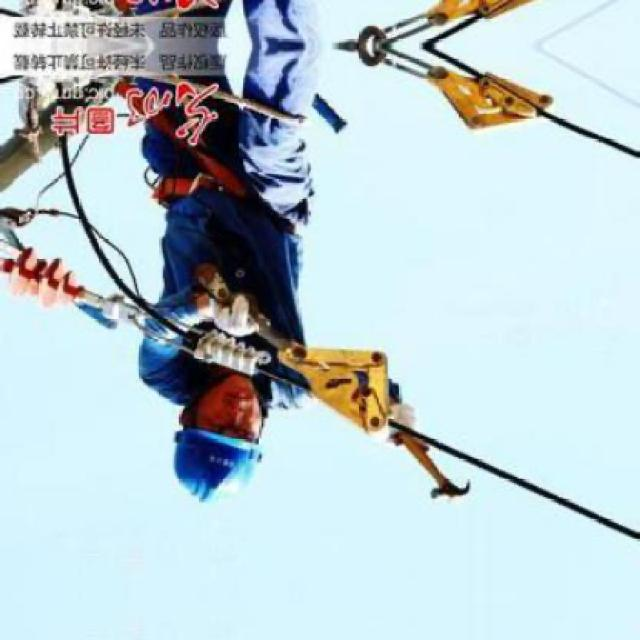con casco: (155, 346, 295, 518)
